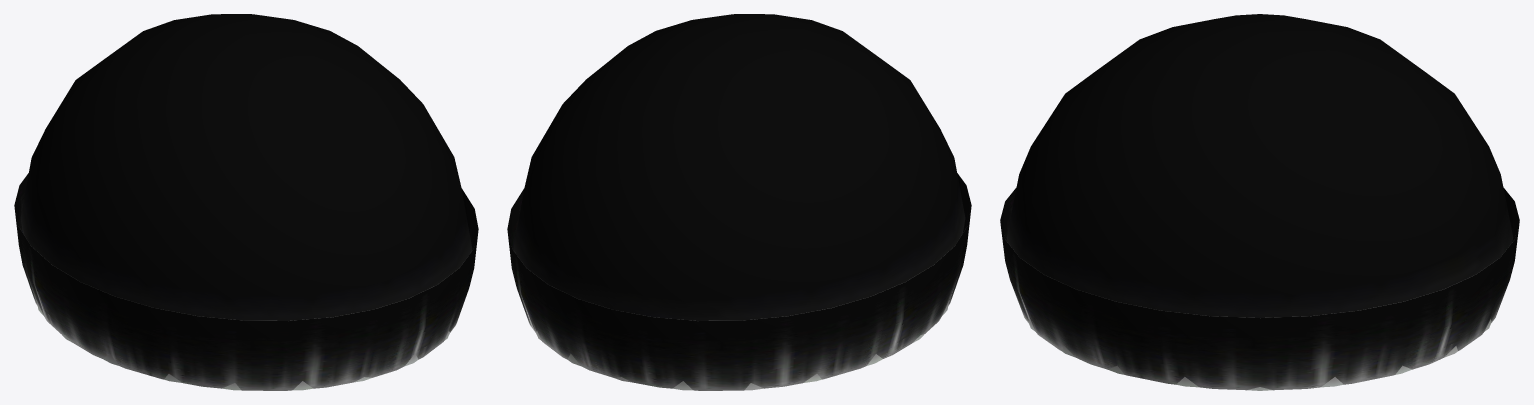
File: Effect_shengguang03.fbx
3 renders of one model, left to right at view 1: azimuth 30°, elevation 25°; view 2: azimuth 150°, elevation 25°; view 3: azimuth 270°, elevation 25°, orthographic. The views are drawn at different scales.
Visible parts, largest first — view 1: shengguang01, shengguang03; view 2: shengguang01, shengguang03; view 3: shengguang01, shengguang03.
Boxes of the visible parts, x1,y1,x2,y2 form: shengguang01: (20,14,472,390); shengguang03: (14,173,478,390); shengguang01: (513,14,965,390); shengguang03: (507,173,971,390); shengguang01: (1006,14,1513,390); shengguang03: (1000,187,1519,390).
Bounding box in the file's own units: 2.69 × 1.72 × 3.03.
Materials: 3 (2 with a texture image).
